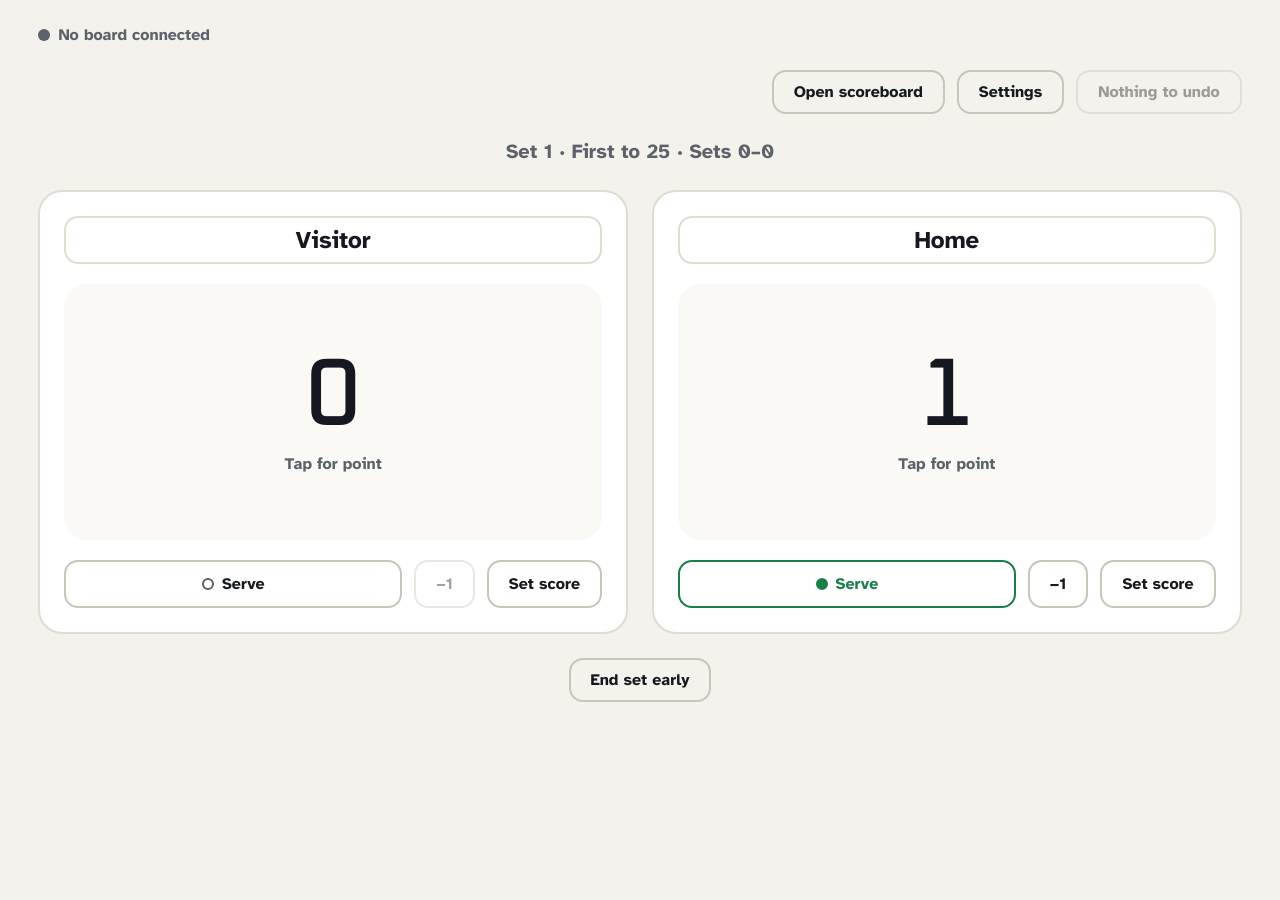
VolleyballConsole › −1 › names the pending −1 on Undo and offers Serve first at 0-0
Expected: the 1st button "Serve" is shown, [64,560,402,608]
Click the 2nd button "−1": [1058, 584] box [1028,560,1088,608]
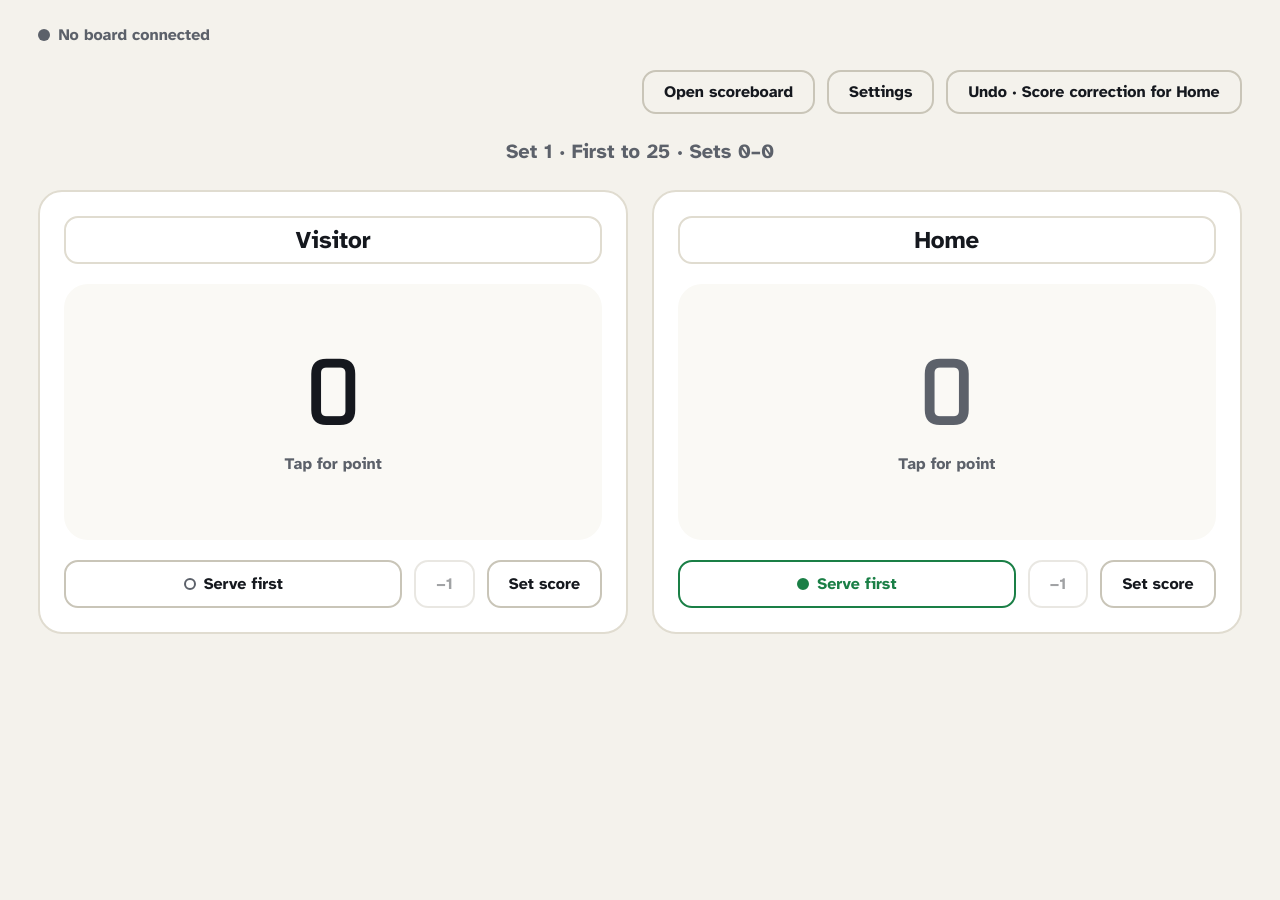
Now the 1st button "Serve first" is shown, box [64,560,402,608]
Now the button "Undo · Score correction for Home" is enabled, box [946,70,1242,114]
